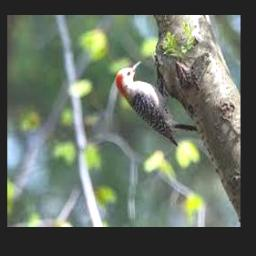Woodpecker: (117, 59, 199, 146)
